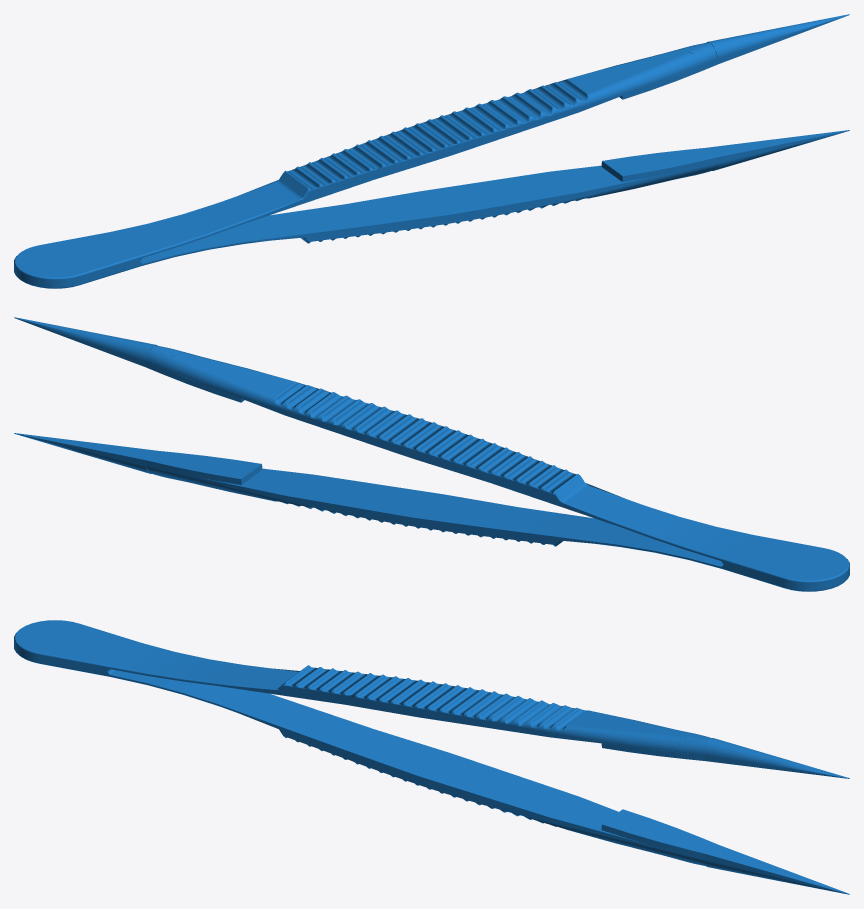
Rendered from o_tweezers_part_v3.obj.
3 renders of one model, top to bottom at view 1: azimuth 30°, elevation 25°; view 2: azimuth 150°, elevation 25°; view 3: azimuth 330°, elevation 25°, orthographic.
Parts seen in each view (by area): view 1: tweezers_part_v2-1-solid2, tweezers_part_v2-1-solid1, tweezers_part_v2-1-solid3, tweezers_part_v2-1-solid4; view 2: tweezers_part_v2-1-solid2, tweezers_part_v2-1-solid1, tweezers_part_v2-1-solid3, tweezers_part_v2-1-solid4; view 3: tweezers_part_v2-1-solid2, tweezers_part_v2-1-solid1, tweezers_part_v2-1-solid3, tweezers_part_v2-1-solid4.
Boxes of the visible parts, x1,y1,x2,y2 form: tweezers_part_v2-1-solid2: (14, 42, 717, 283); tweezers_part_v2-1-solid1: (14, 163, 717, 288); tweezers_part_v2-1-solid3: (601, 130, 849, 181); tweezers_part_v2-1-solid4: (619, 14, 849, 99); tweezers_part_v2-1-solid2: (146, 345, 849, 586); tweezers_part_v2-1-solid1: (146, 466, 849, 591); tweezers_part_v2-1-solid3: (14, 433, 262, 484); tweezers_part_v2-1-solid4: (14, 317, 244, 402); tweezers_part_v2-1-solid2: (14, 620, 711, 755); tweezers_part_v2-1-solid1: (14, 645, 705, 865); tweezers_part_v2-1-solid3: (601, 809, 849, 894); tweezers_part_v2-1-solid4: (601, 723, 849, 778).
Bounding box in the file's own units: 0.15 × 0.022 × 0.013.
